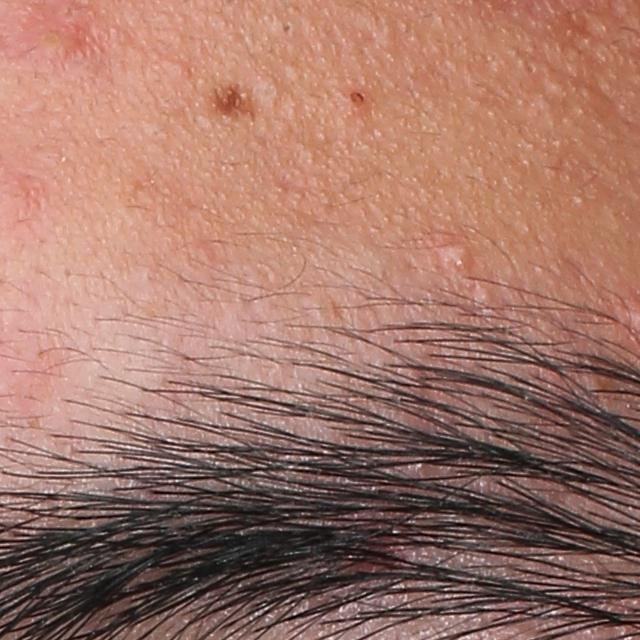comedo: (473, 283, 494, 308), (346, 90, 366, 110)
papule: (33, 16, 78, 64), (440, 240, 468, 268)
